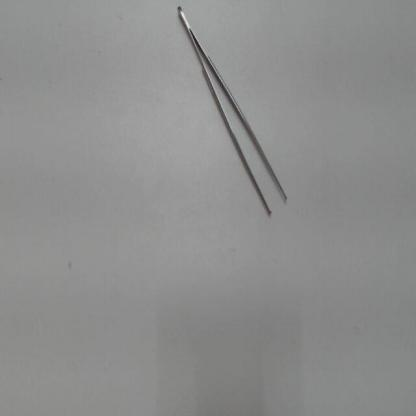Gillies Toothed Dissector: (171, 4, 296, 227)
